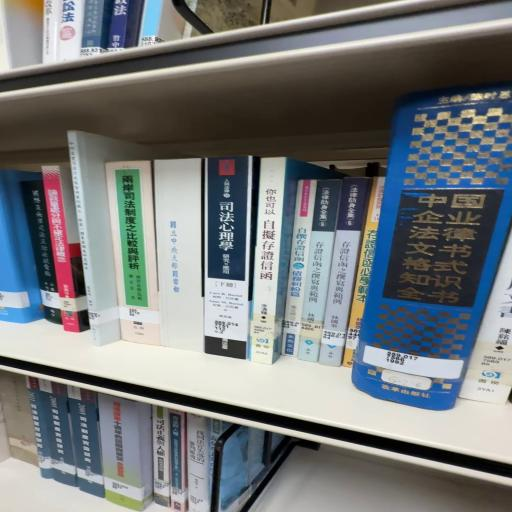backward: (158, 157, 210, 356)
book: (71, 138, 132, 344), (205, 155, 255, 362), (321, 180, 372, 366)
